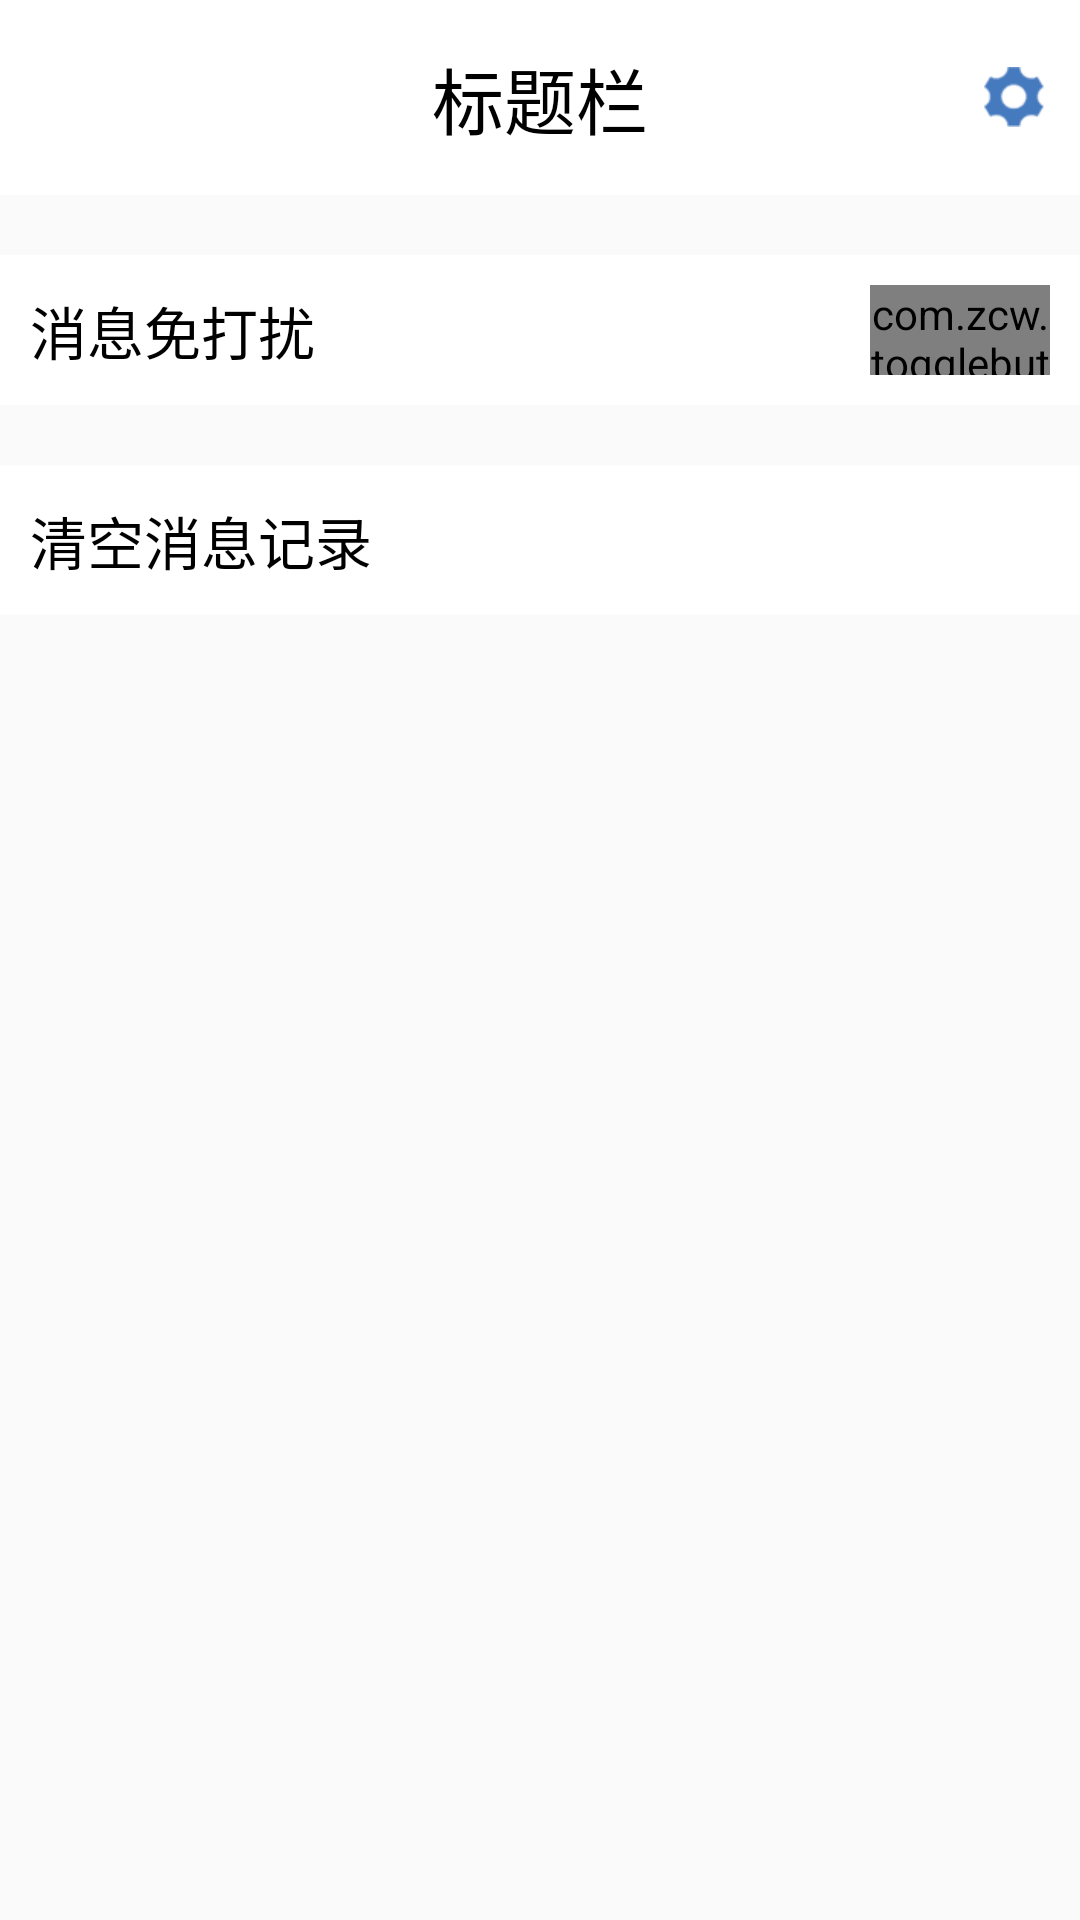

Named icons in this screenshot (1080 x 1920) and their bounding boxes, region(x1, y1, x2, y2):
settings: region(984, 67, 1044, 127)
